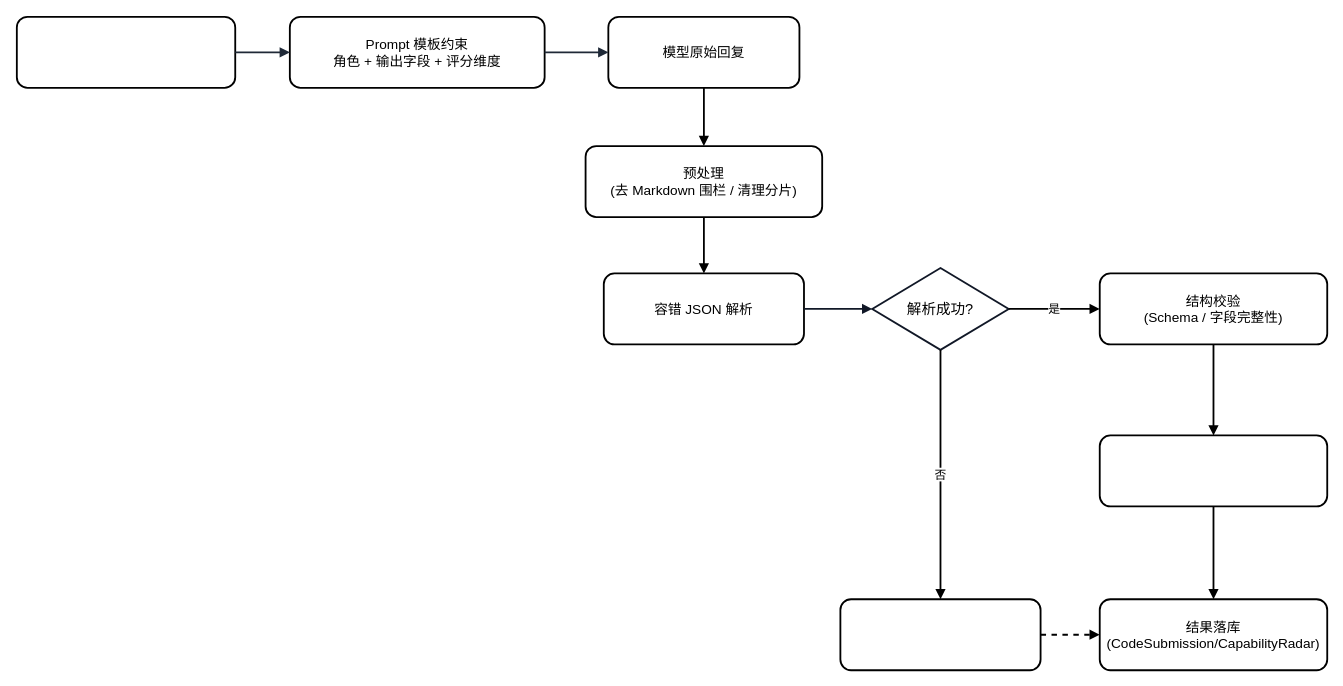
The diagram is 1343 pixels wide and 686 high, and some of its shapes have lost their labels. Each missing label, with the centre of its shape:
"任务上下文输入 (题目 + 测试 + 代码)" goes at (x=125, y=51).
"保留原始文本 继续完成提交流程" goes at (x=940, y=634).
"评分映射 + 改进建议 能力维度更新" goes at (x=1213, y=470).
